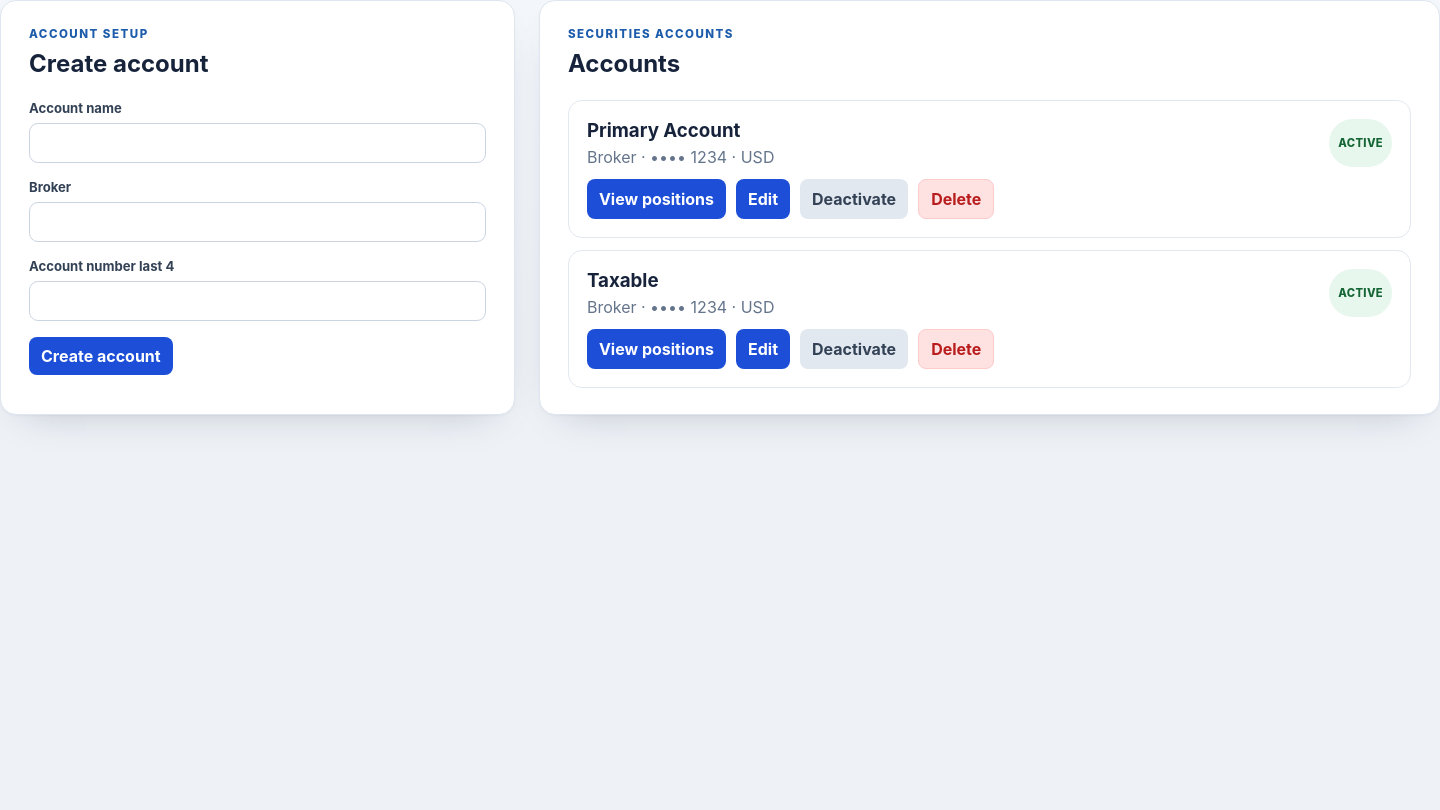
Accounts page › loads positions for only the selected account
Click the button "View positions" below "Taxable": (656, 349) [587,329,726,369]
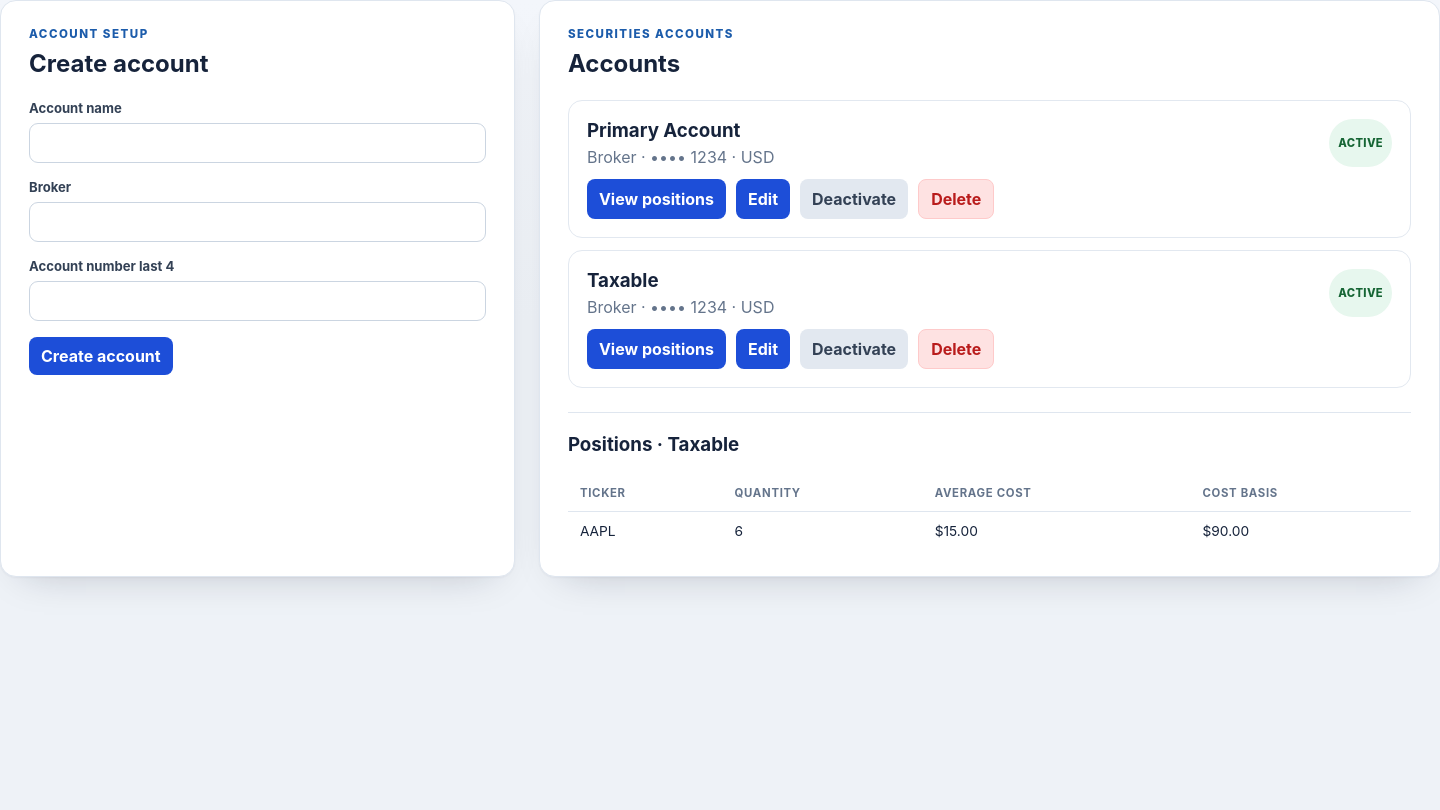
Result: the text "AAPL" is shown at [568,511,723,550]
Result: the text "$90.00" is shown at [1190,511,1411,550]
